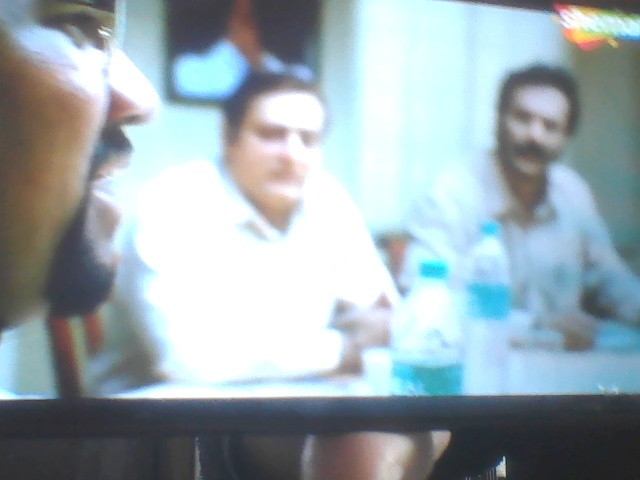fake: (222, 53, 339, 219)
